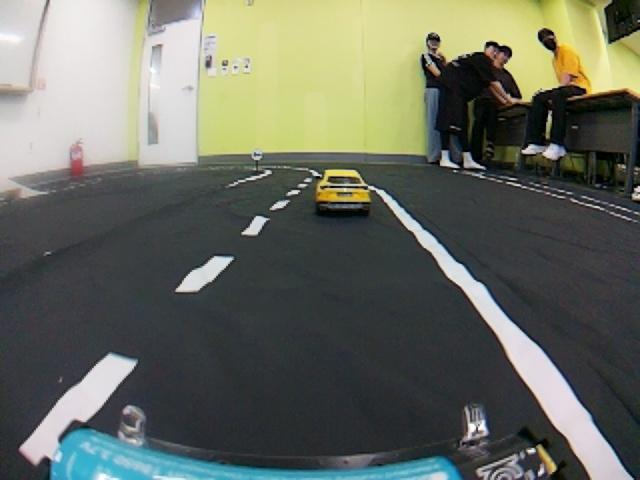car: (306, 165, 384, 217)
sign_left: (246, 145, 268, 163)
straight: (28, 230, 640, 479)
